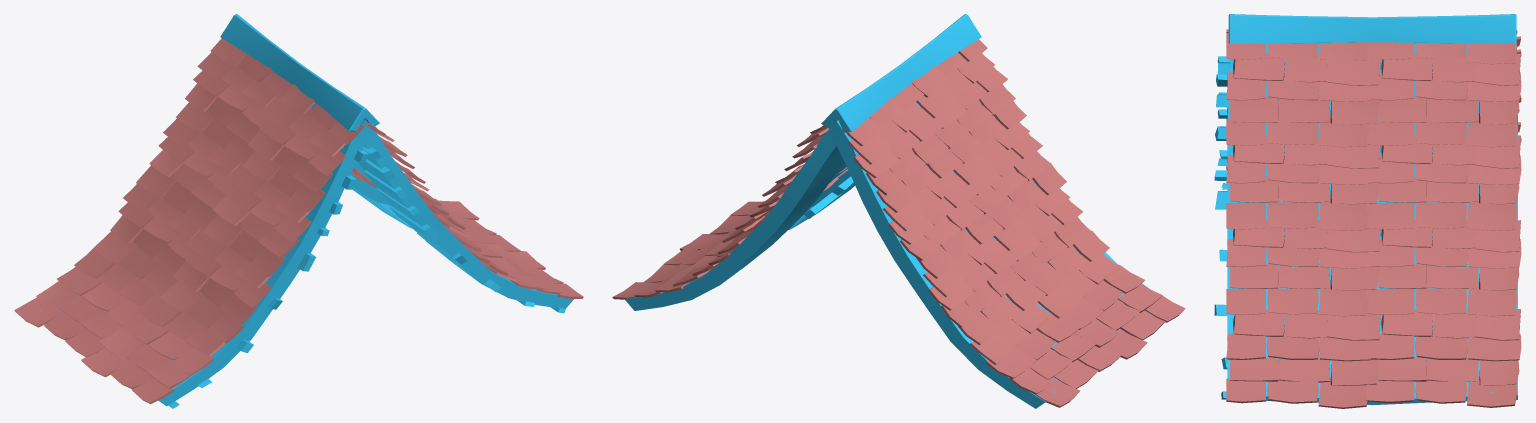
The model's file is Roof_01_wide.fbx.
The picture shows the model from 3 angles, left to right: view 1: azimuth 30°, elevation 25°; view 2: azimuth 150°, elevation 25°; view 3: azimuth 270°, elevation 25°; orthographic projection. The views are drawn at different scales.
Parts seen in each view (by area): view 1: Roof_01_wide_LOD0; view 2: Roof_01_wide_LOD0; view 3: Roof_01_wide_LOD0.
Part boxes in pixels (x1=…): Roof_01_wide_LOD0: x1=14, y1=14, x2=583, y2=408; Roof_01_wide_LOD0: x1=612, y1=14, x2=1185, y2=408; Roof_01_wide_LOD0: x1=1214, y1=14, x2=1521, y2=408.
Size of what is drawn, in the model's own units: 1508 by 821 by 809.
